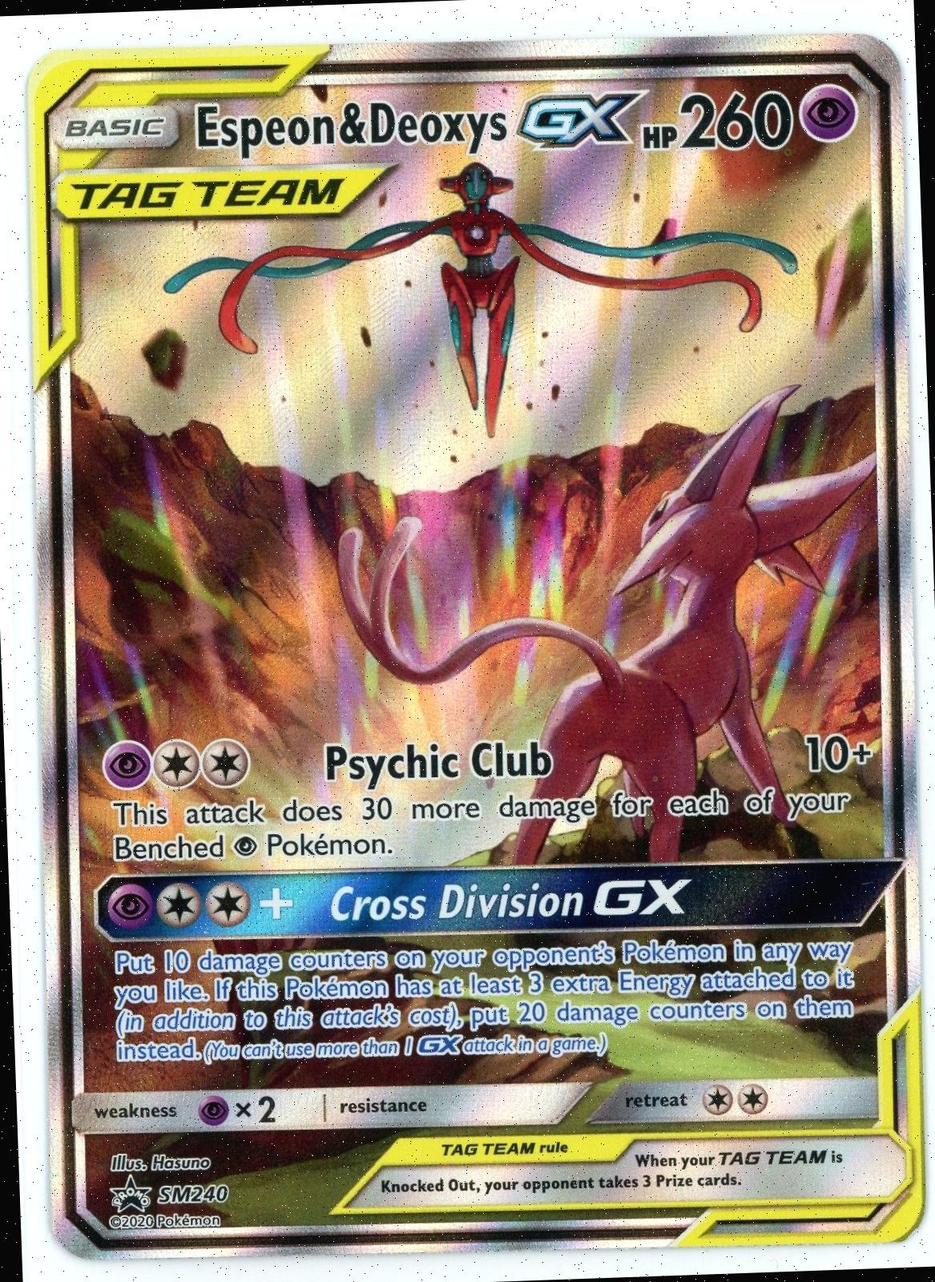card-2UtV: (27, 32, 925, 1260)
